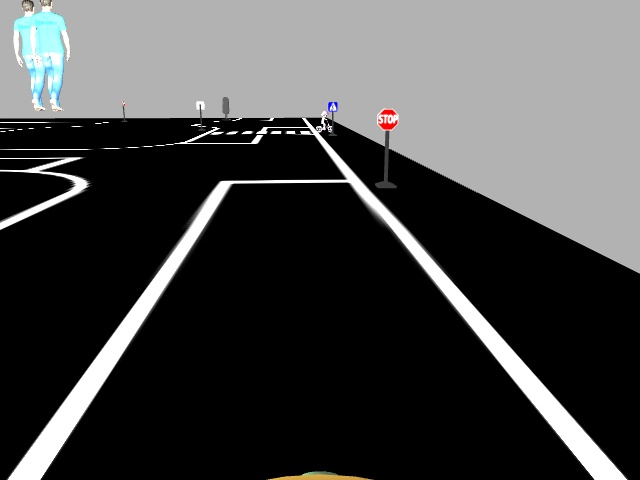Stop: (375, 106, 398, 130)
